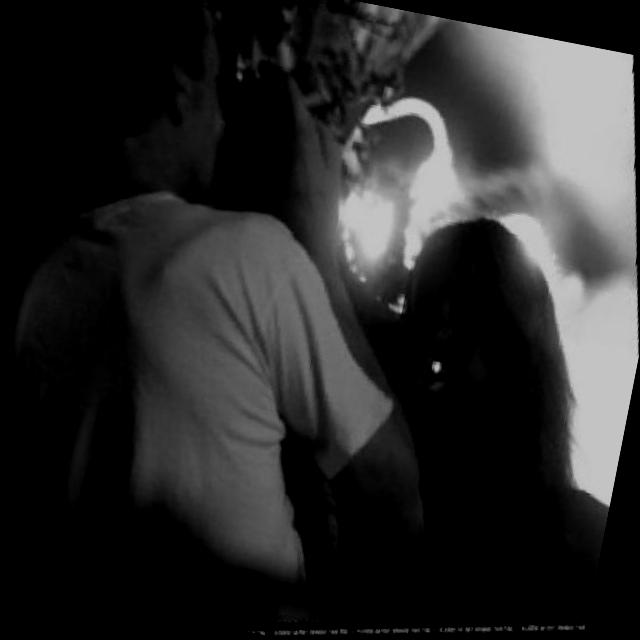cigarette: (430, 357, 460, 390)
